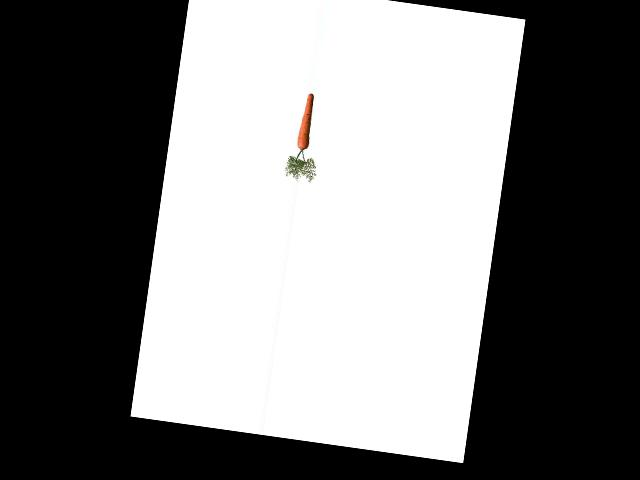carrot: (293, 90, 319, 155)
